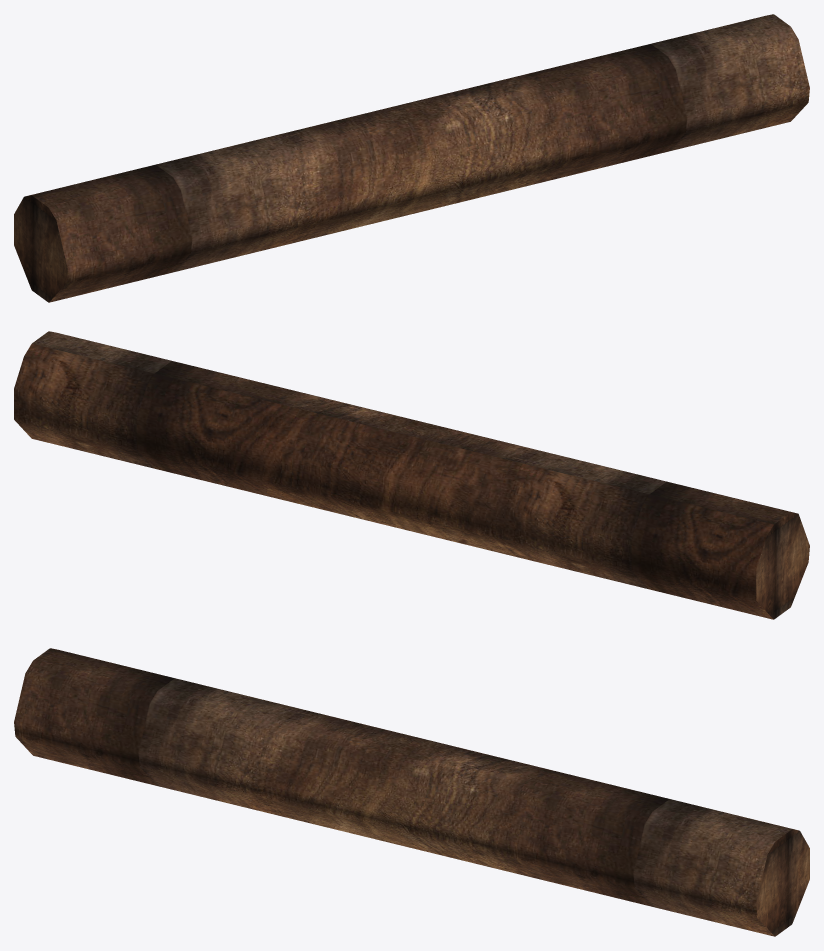
File: wood pile.fbx
3 views of the same model, one above another, from view 1: azimuth 30°, elevation 25°; view 2: azimuth 150°, elevation 25°; view 3: azimuth 330°, elevation 25° (orthographic).
Visible parts, largest first — view 1: pCylinder1; view 2: pCylinder1; view 3: pCylinder1.
Boxes of the visible parts, x1=… form: pCylinder1: x1=14, y1=14, x2=809, y2=302; pCylinder1: x1=14, y1=331, x2=809, y2=619; pCylinder1: x1=14, y1=648, x2=809, y2=936.
Size of the model in its own units: 15.54 by 1.9 by 1.95.
1 material, 1 textured.
